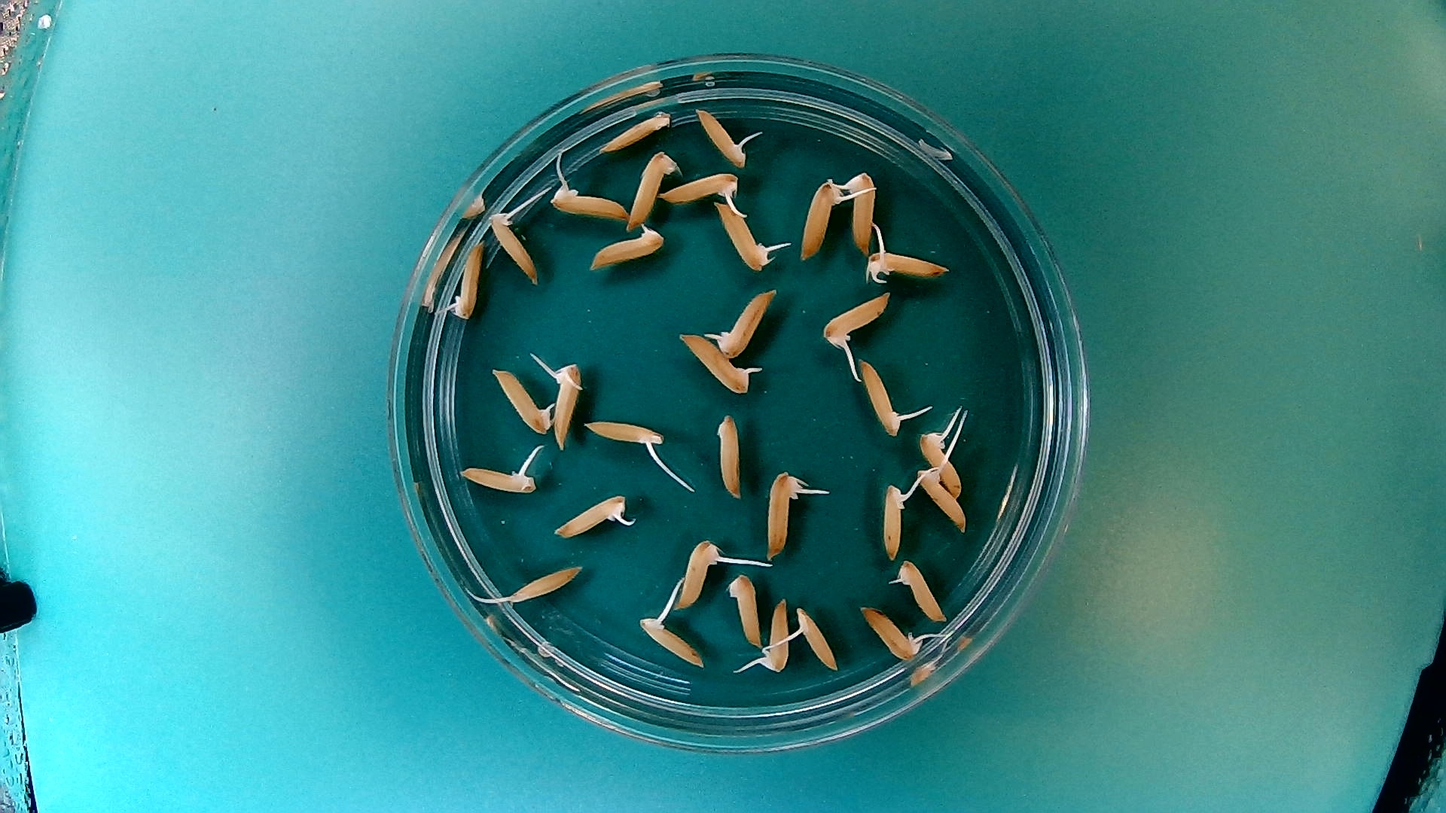no: (626, 147, 680, 228), (597, 109, 673, 152), (725, 571, 765, 647), (713, 410, 744, 501)
yes: (675, 328, 760, 397), (490, 360, 561, 437), (712, 285, 778, 359), (797, 172, 850, 262), (859, 357, 912, 437), (550, 489, 633, 540), (822, 291, 893, 350), (764, 466, 809, 559), (712, 197, 770, 269), (636, 613, 707, 671), (674, 535, 726, 611), (917, 463, 970, 537), (858, 604, 923, 663), (487, 217, 541, 286), (586, 222, 665, 269), (581, 414, 670, 455), (692, 105, 749, 169), (895, 559, 949, 626), (446, 236, 487, 323), (503, 562, 584, 605), (548, 355, 584, 449), (792, 601, 840, 671), (658, 168, 742, 207), (863, 250, 950, 285), (877, 478, 913, 562), (550, 184, 630, 221), (920, 432, 965, 496), (759, 592, 791, 674), (456, 464, 538, 496), (847, 169, 877, 255)
